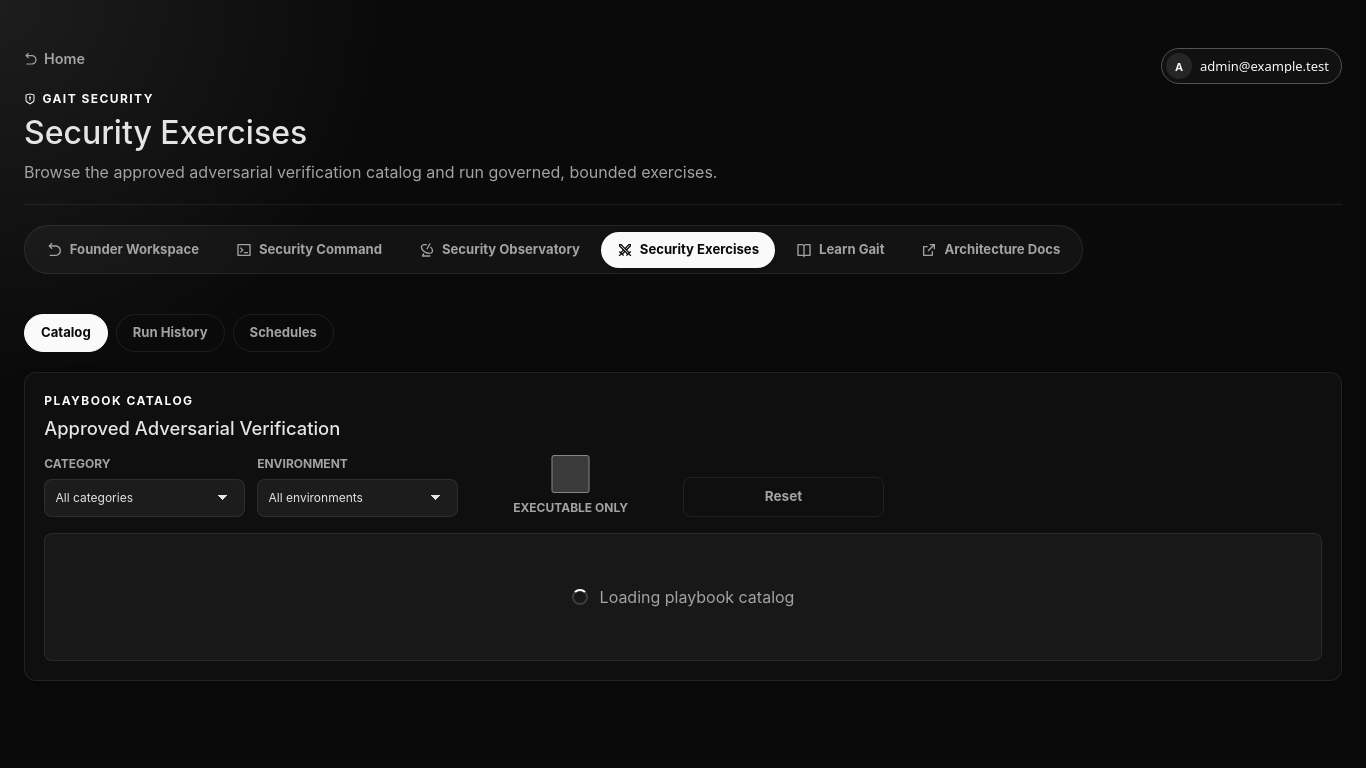
Schedule list rendering › a loading state renders before schedules arrive
The width and height of the screenshot is (1366, 768).
Click the button "Schedules".
click(283, 333)  # box x1=232 y1=314 x2=334 y2=352
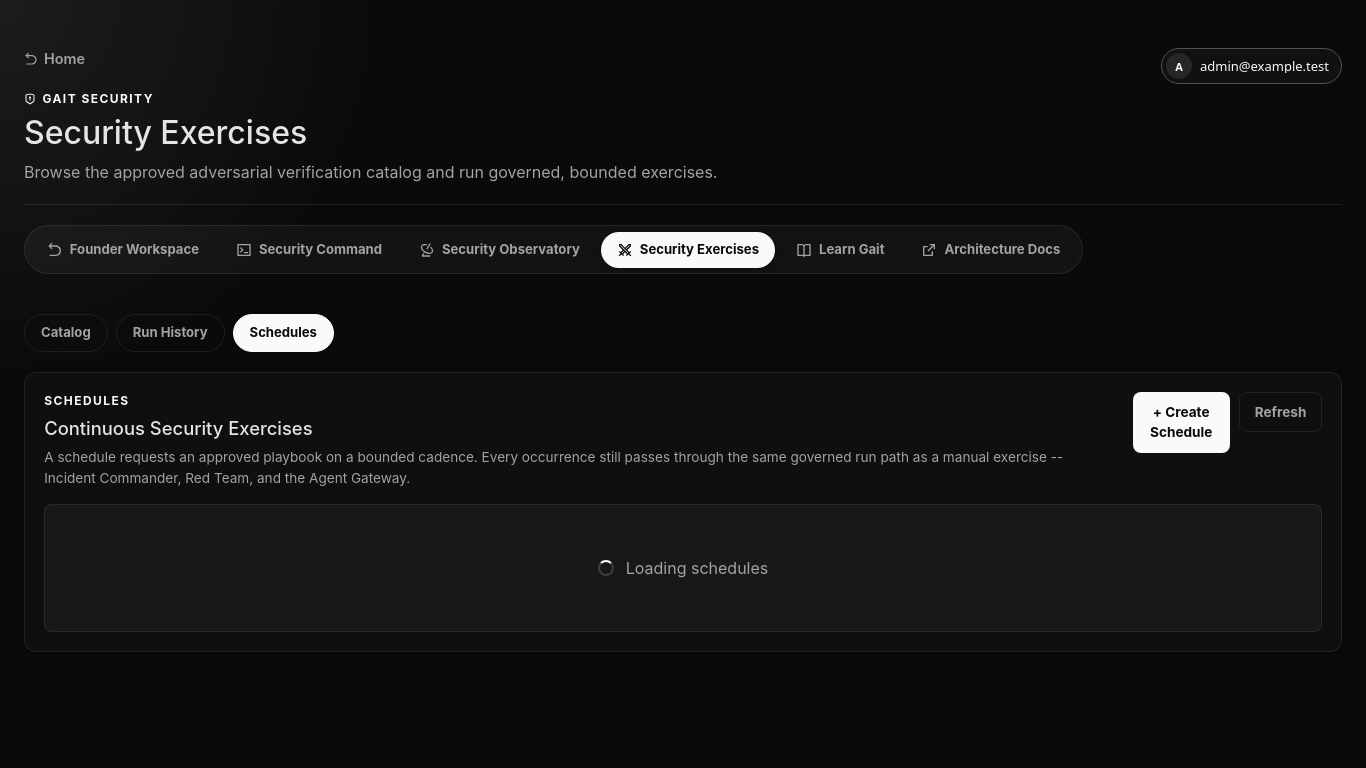
Check: the text "Loading schedules" is shown, box x1=626 y1=556 x2=768 y2=580
